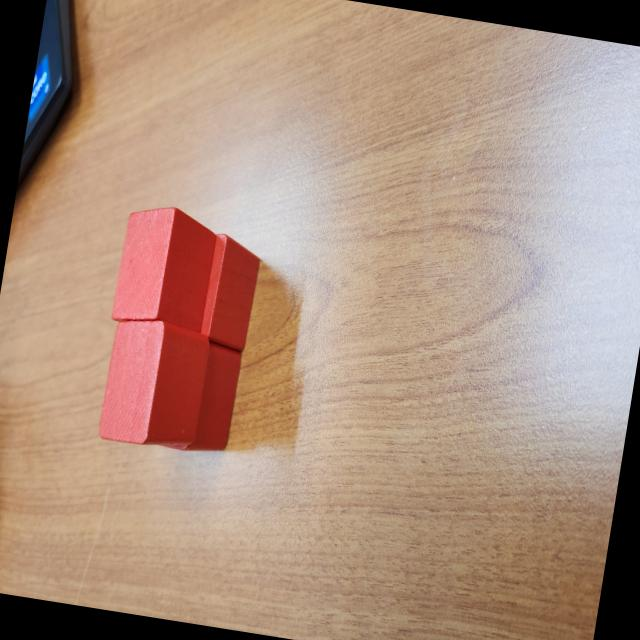red: (94, 312, 213, 454), (108, 200, 220, 337), (154, 334, 243, 458), (198, 232, 266, 354)
